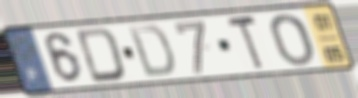6: (44, 31, 85, 86)
7: (172, 19, 208, 76)
D: (74, 26, 128, 85), (125, 23, 178, 79)
O: (268, 11, 317, 68)
T: (224, 13, 266, 73)
